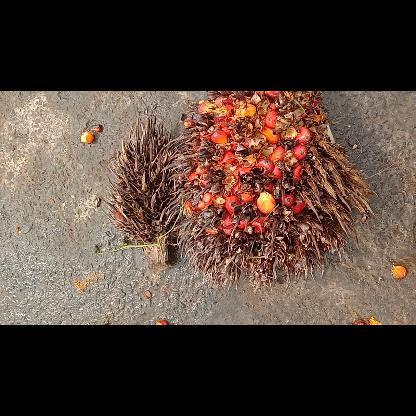Janjang kosong: (102, 113, 186, 271)
Terlalu masak: (165, 90, 374, 290)
